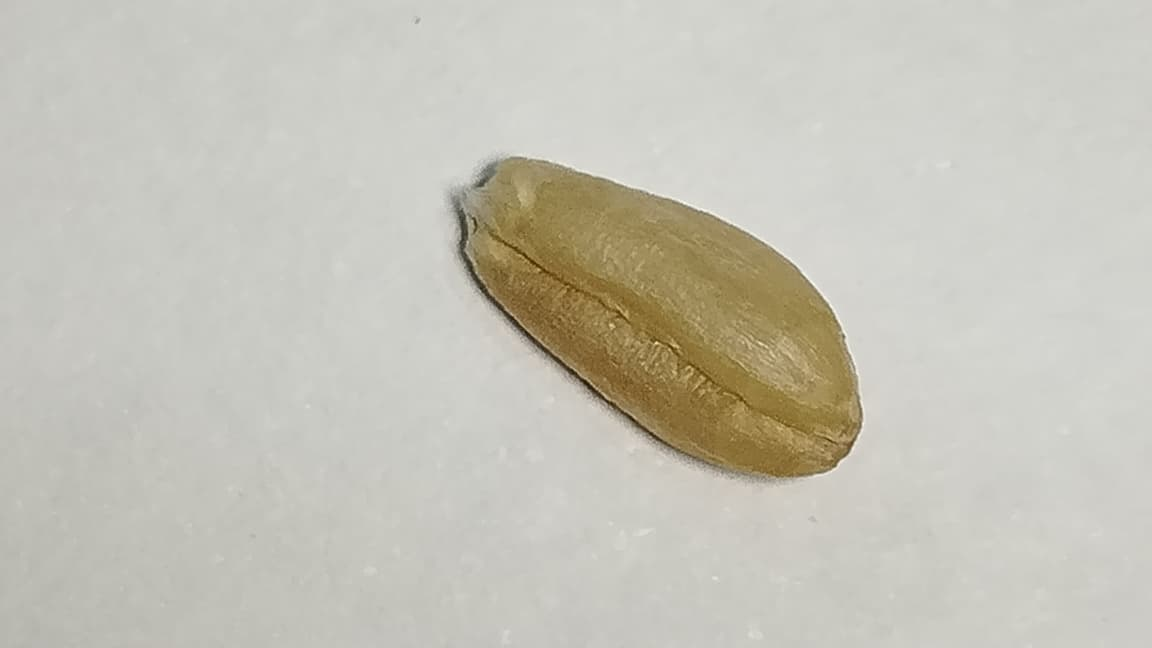healthy: (460, 159, 860, 475)
